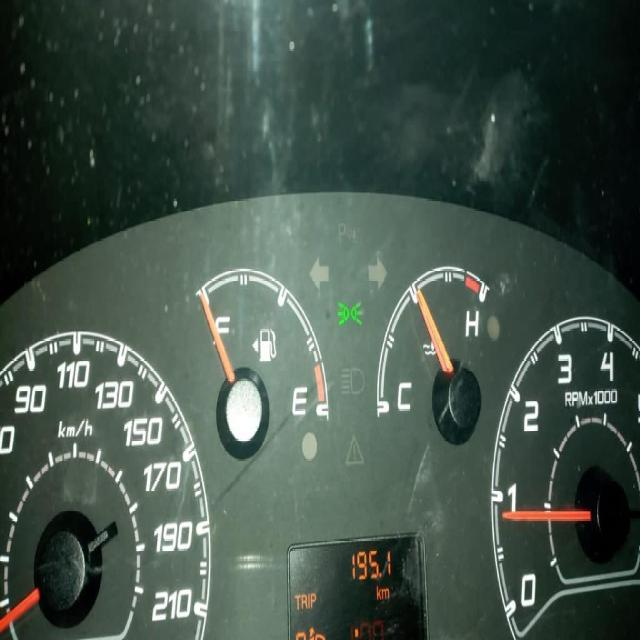odometer: (284, 529, 430, 639)
